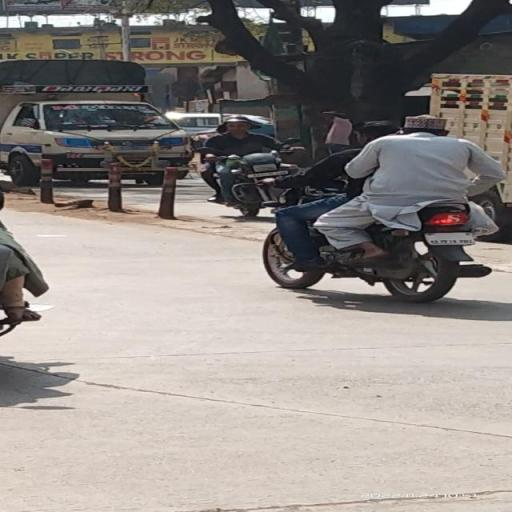bike: (261, 113, 494, 303)
withouthelmet: (354, 121, 390, 144), (407, 114, 441, 133)
